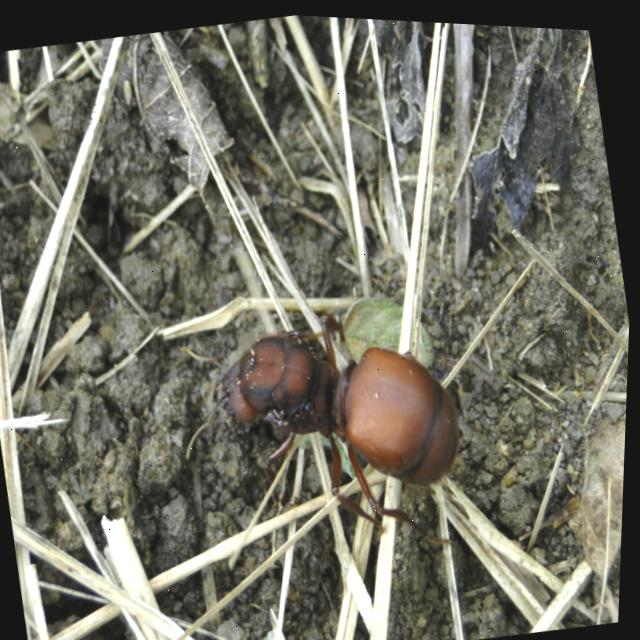Alive-Female-Dealate: (163, 280, 488, 585)
